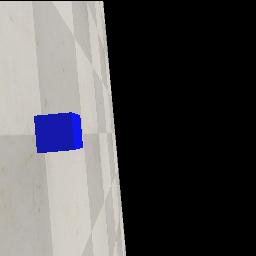box: (34, 112, 83, 153)
